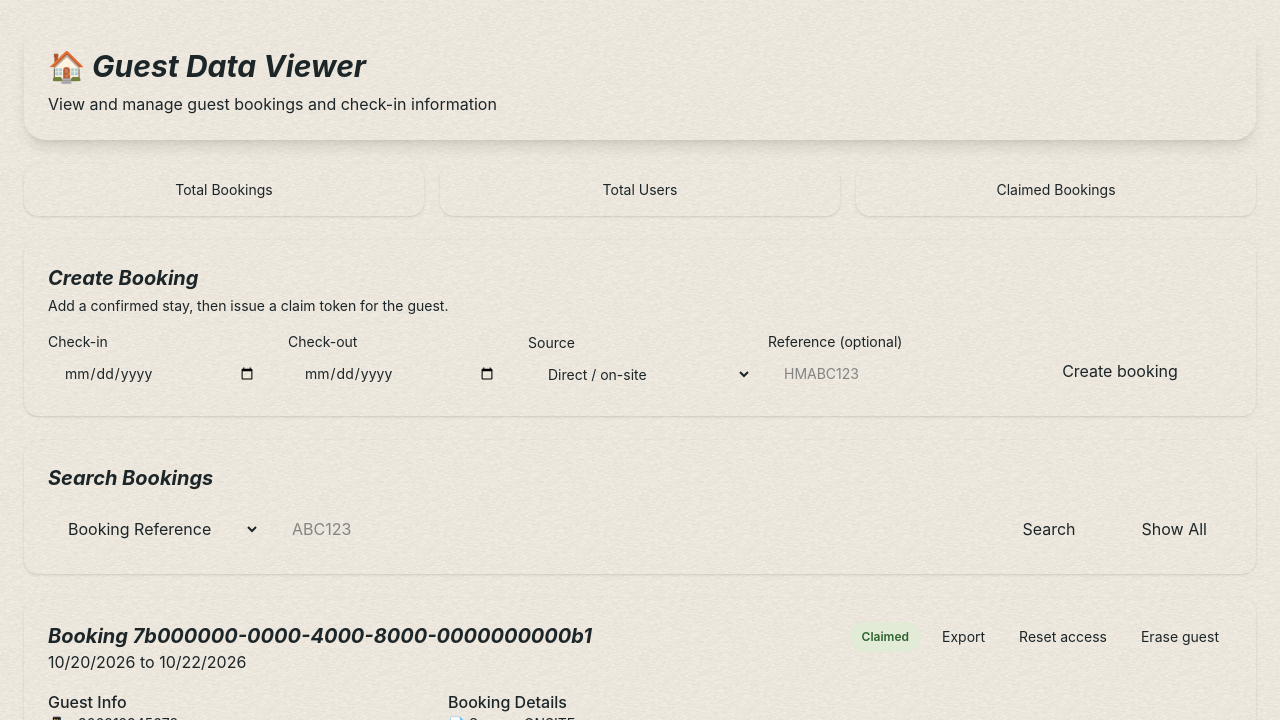
Test: admin guests guarded actions › resets access with a confirmed 30-minute request and shows the new claim token
The width and height of the screenshot is (1280, 720).
What coordinates should you click on to do the following:
click the button "Reset access"
I would click on:
 (1063, 637)
Its box is top-left (1006, 622), bottom-right (1120, 652).
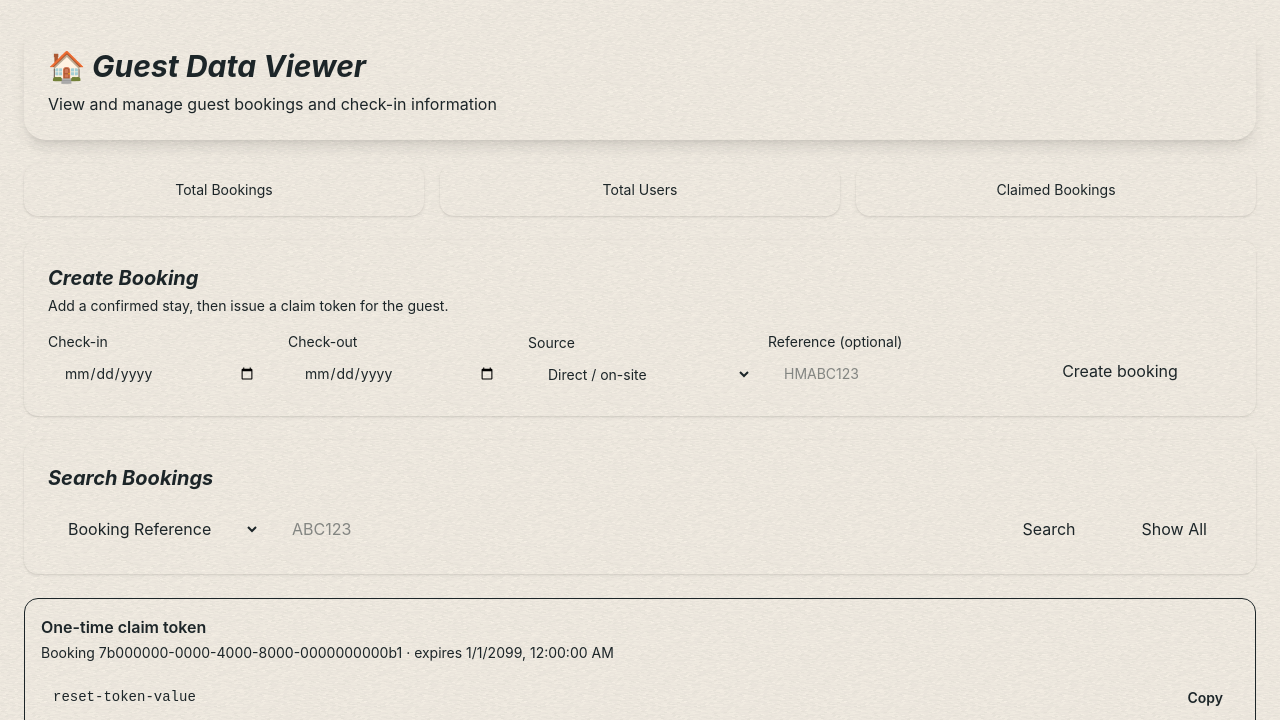
Expected: the text "reset-token-value" is shown, top-left (53, 689), bottom-right (196, 705)
